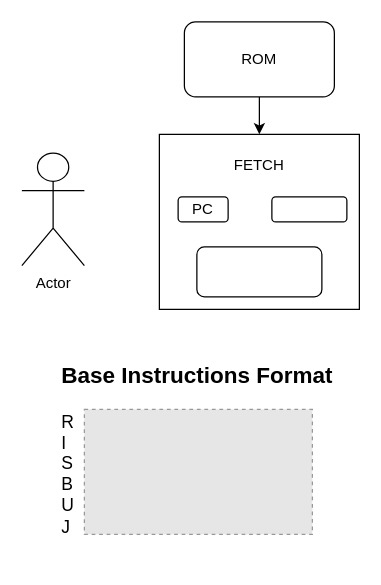
Image size: 381x585. Some labels were removed from this diagram. Grey dashed boxes stand in for pictures. Each missing label, with the centre of its shape:
Decoder: point (309, 209)
Register File RF (X0-X31): point (259, 271)
